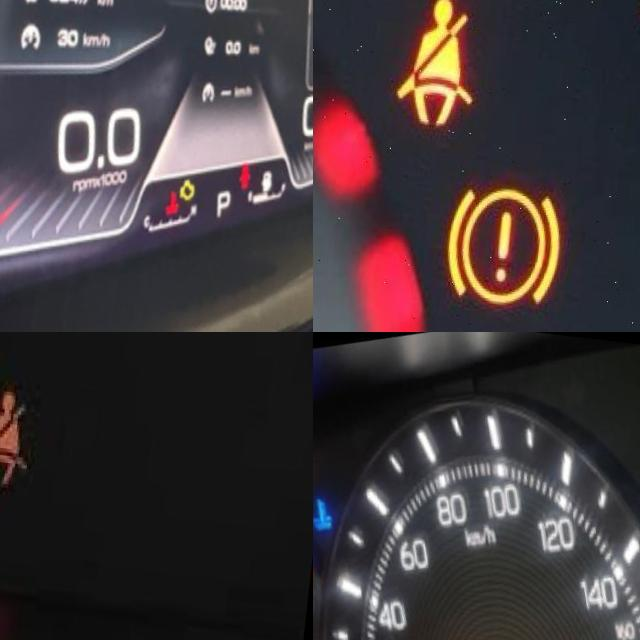Doors: (245, 144, 266, 181)
Engine cooling system: (313, 483, 347, 537), (171, 176, 195, 209)
Seat Belt: (397, 0, 487, 124), (0, 380, 36, 479)
